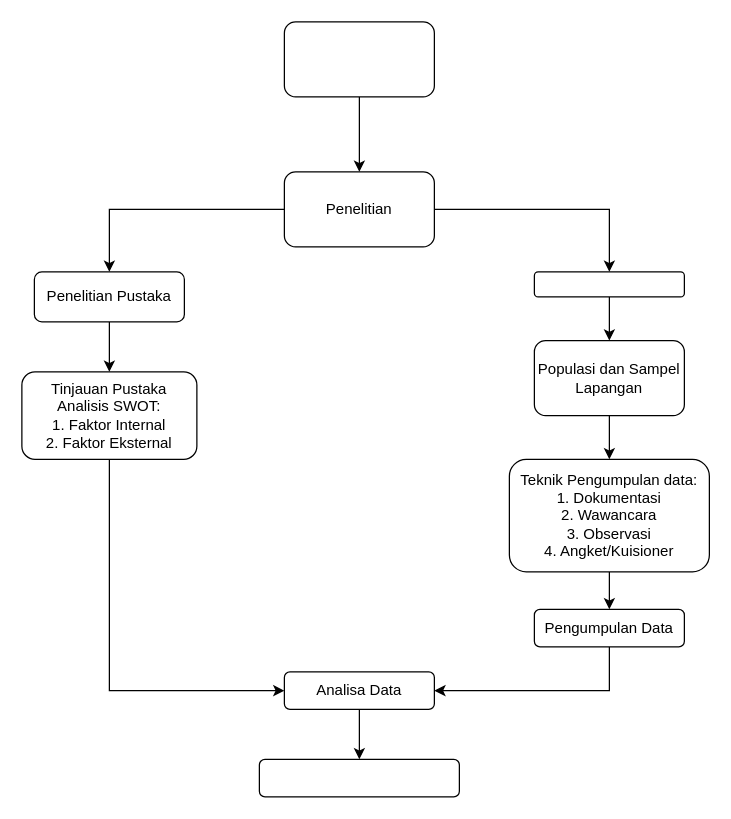
Image size: 731x819. Some labels were removed from this diagram. Each missing label, with the box of its shape:
Laporan Hasil Analisis Data: (258, 758, 459, 797)
Penelitian Lapangan: (533, 271, 684, 297)
Start: (283, 21, 434, 97)
